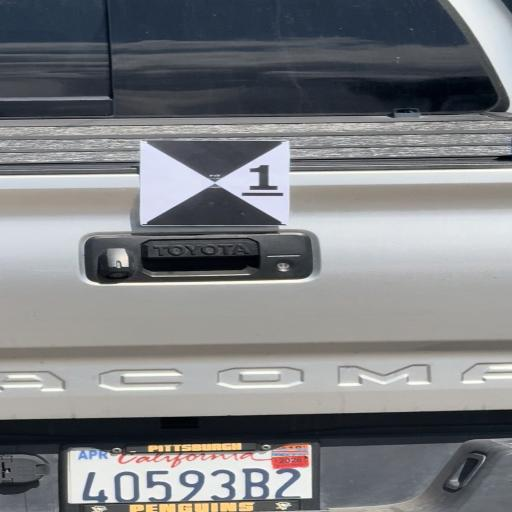target1: (140, 142, 288, 224)
